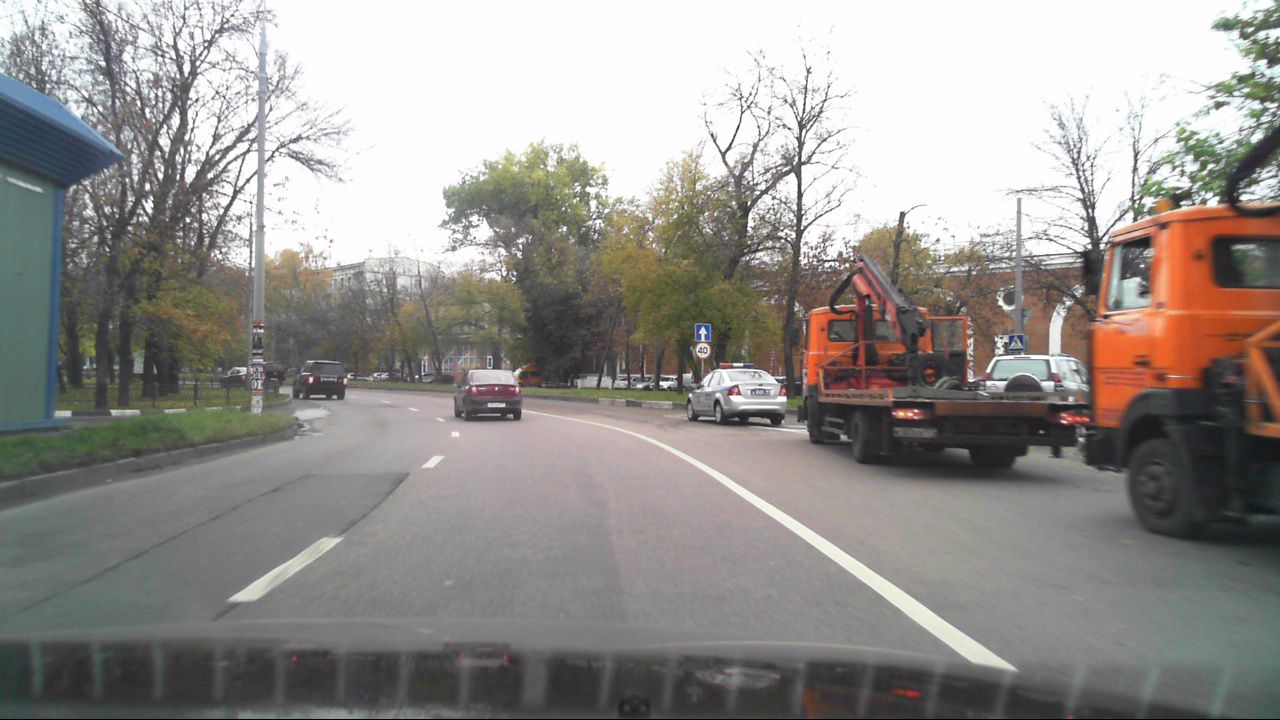speed_warning_40: (694, 343, 712, 359)
